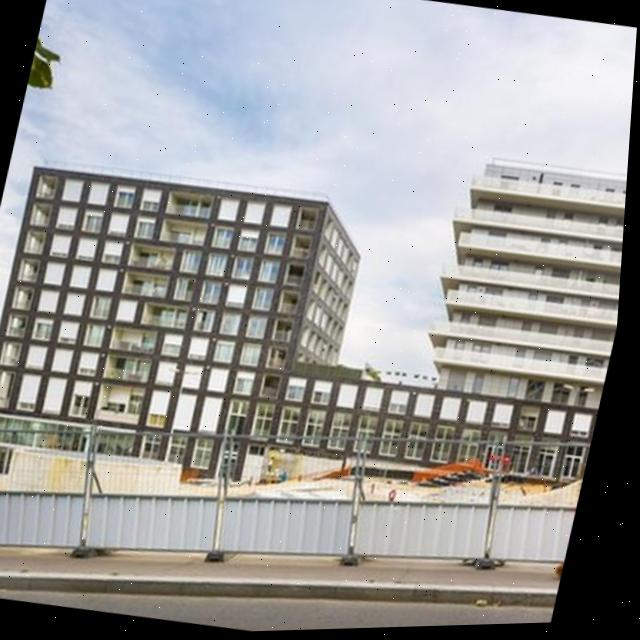building: (0, 146, 380, 472), (403, 148, 629, 494)
